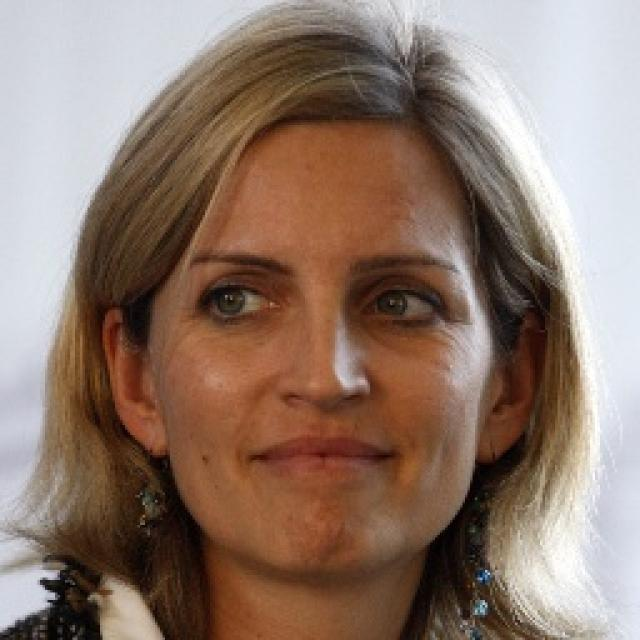earlobe: (474, 303, 548, 466), (101, 304, 173, 457)
